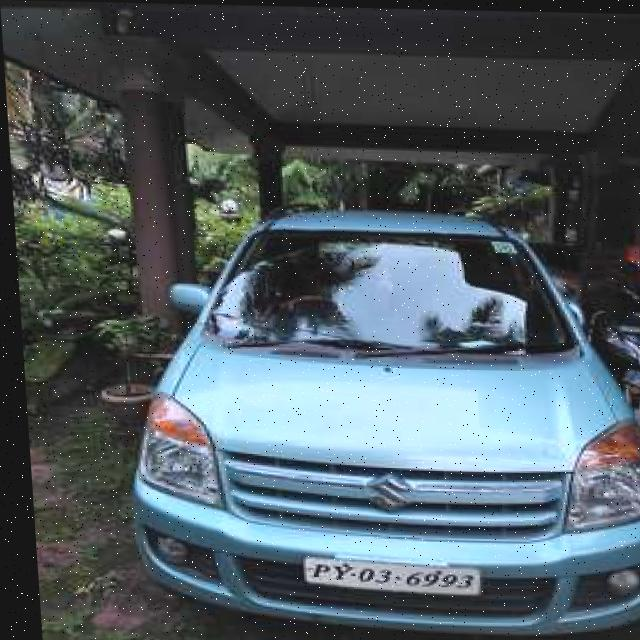plate: (298, 555, 473, 597)
